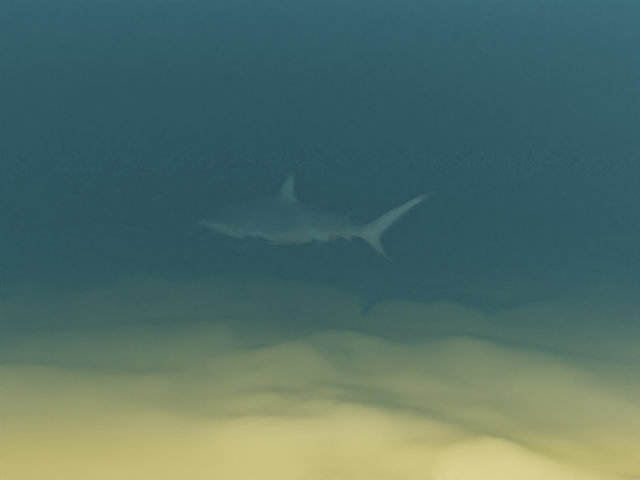Carribean Shark.001: (196, 170, 437, 262)
